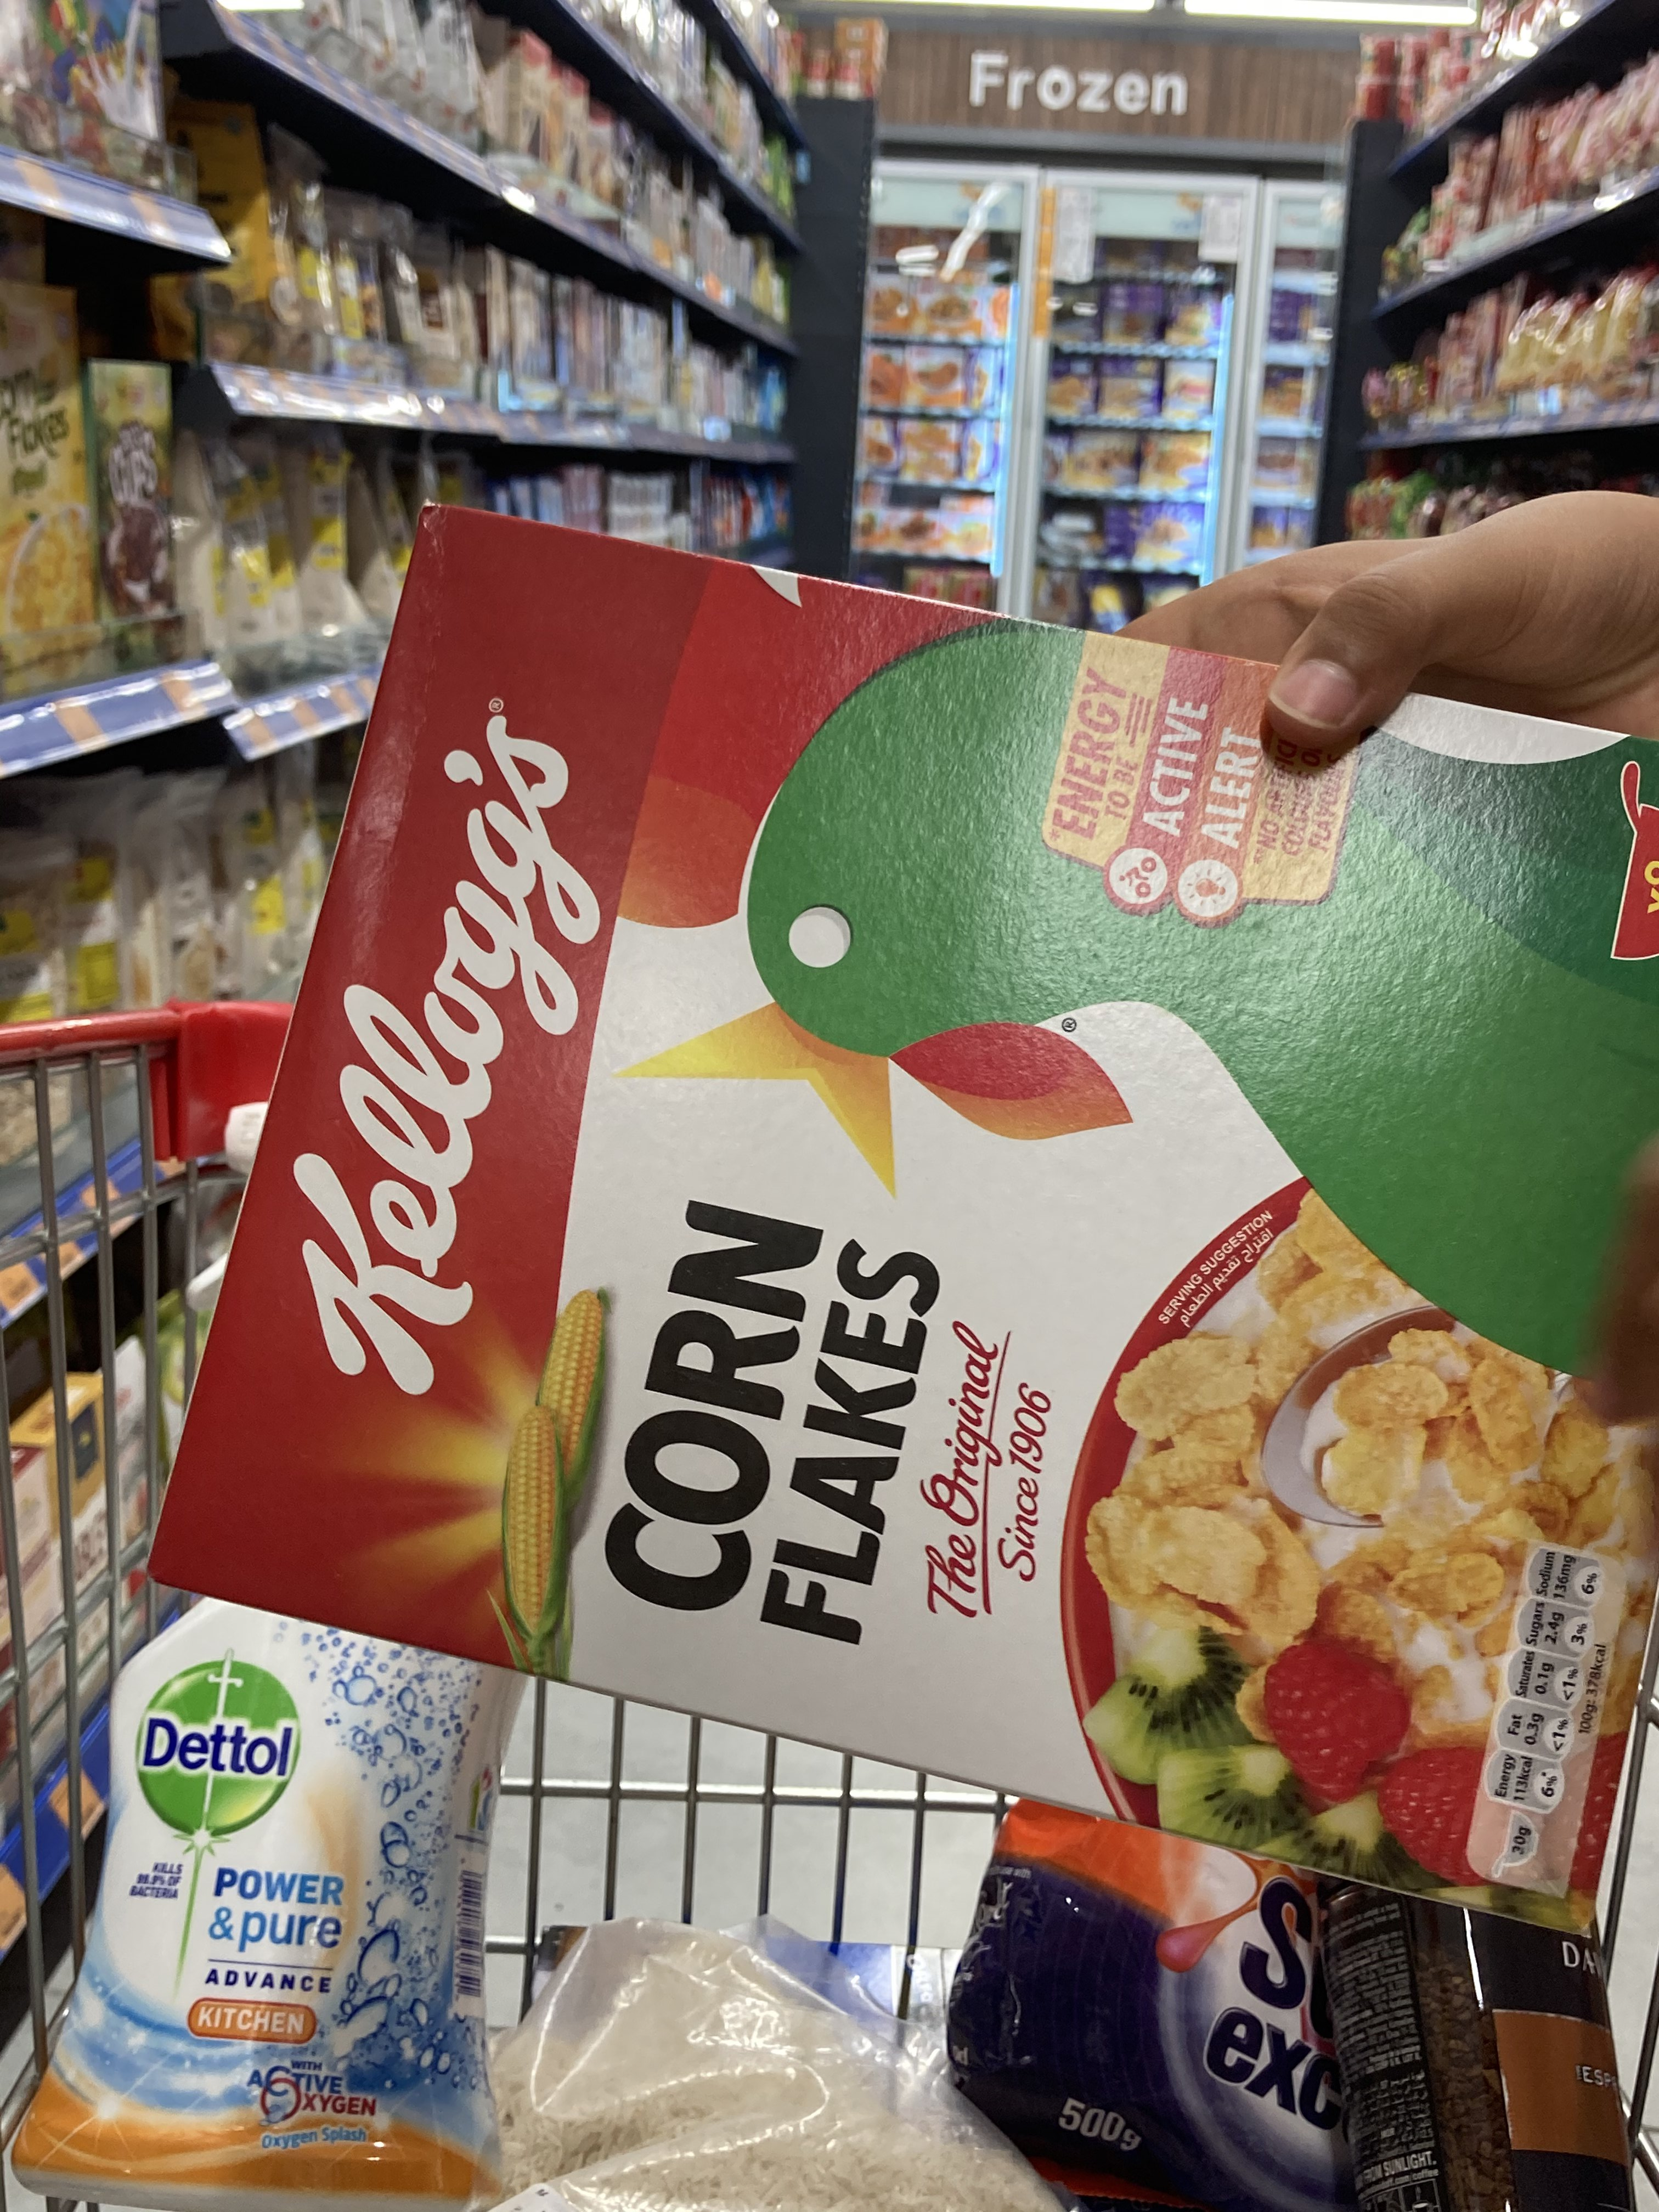Kellogg's Corn Flakes: (148, 495, 1659, 1939)
